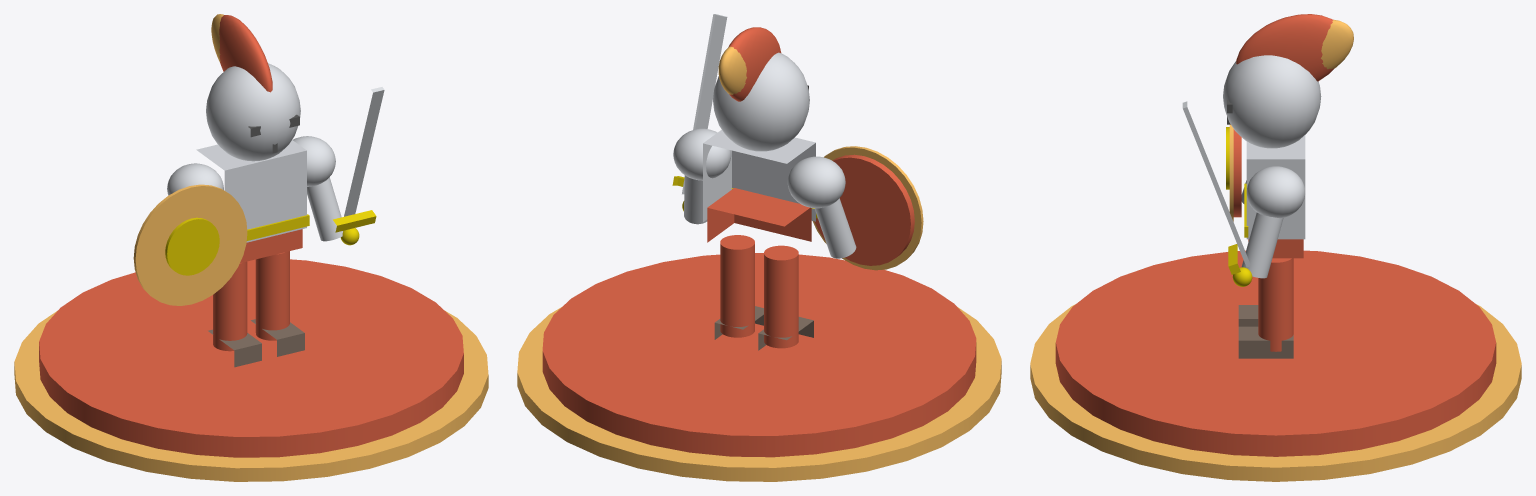
Rendered from dept7.glb.
3 views of the same model, side by side, from view 1: azimuth 30°, elevation 25°; view 2: azimuth 150°, elevation 25°; view 3: azimuth 270°, elevation 25° (orthographic). The views are drawn at different scales.
Bounding box in the file's own units: 2.5 × 2.04 × 2.5.
